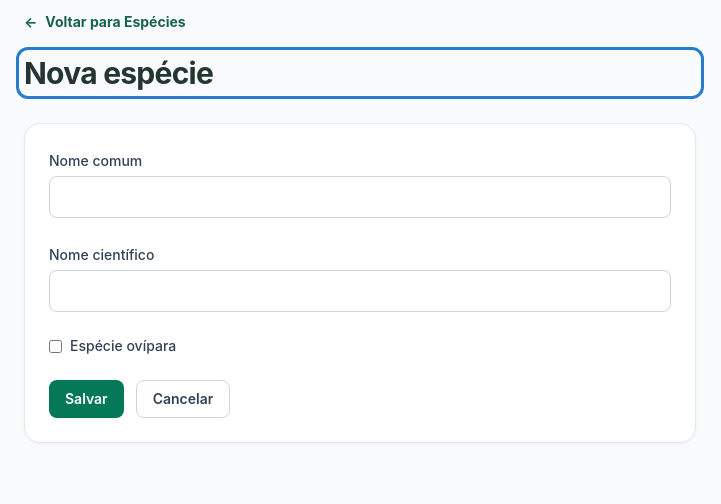
SpeciesFormPage - criação › traduz conflito 409 ao criar
Type "Cão" into the field labelled "Nome comum" at (360, 197), box 49,176 -> 671,218
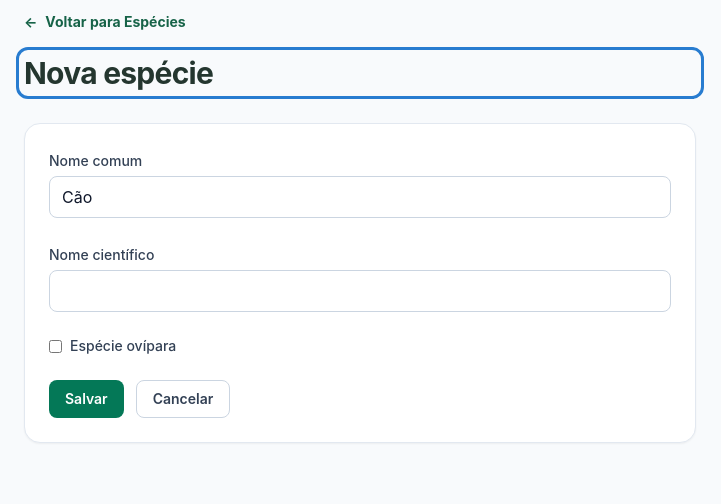
Click the button "Salvar" at (86, 399), box 49,380 -> 124,418
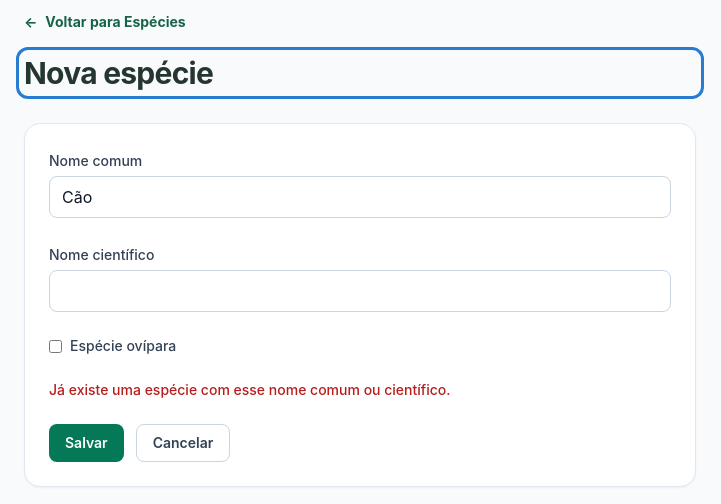
Check: the message reads "Já existe uma espécie com esse nome comum ou científico.", box 49,381 -> 450,398
